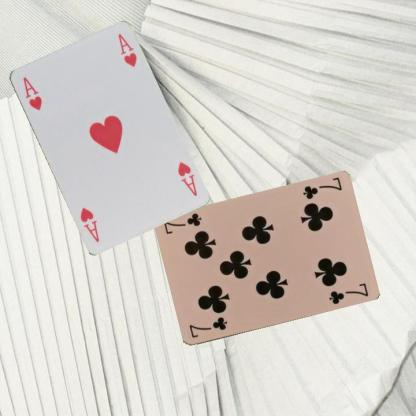7c: (186, 314, 228, 340), (300, 175, 342, 201)
Ah: (175, 159, 198, 197), (20, 74, 42, 111)
